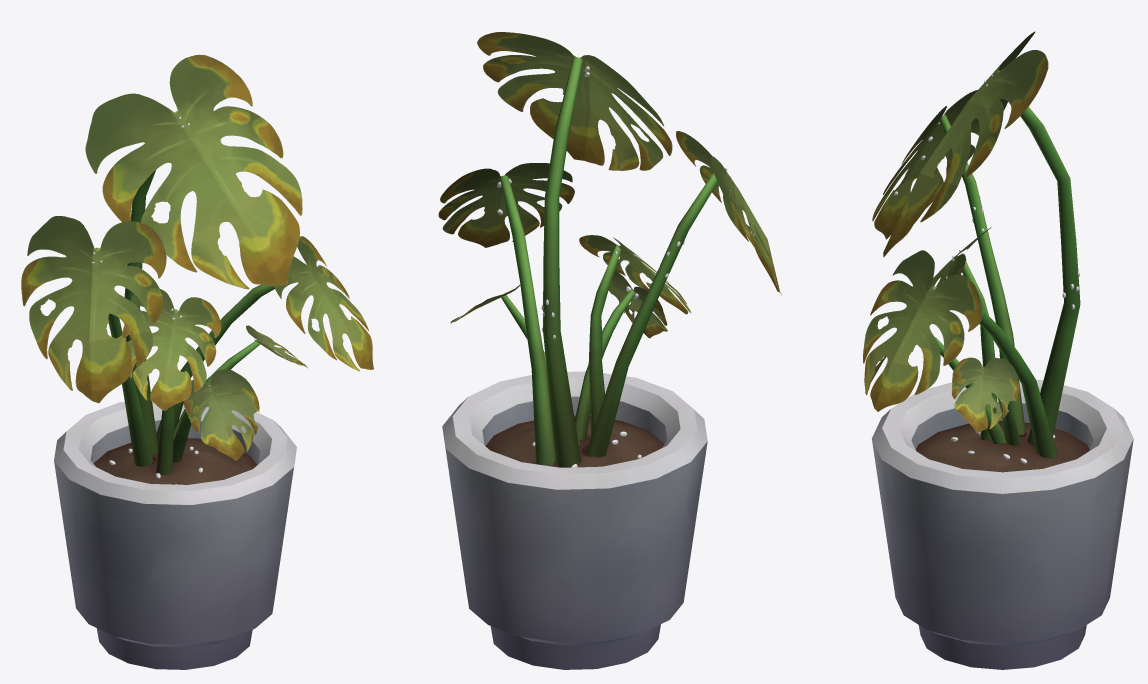
Rendered from MDL_MonsteraPestsCheck.fbx.
3 renders of one model, left to right at view 1: azimuth 30°, elevation 25°; view 2: azimuth 150°, elevation 25°; view 3: azimuth 270°, elevation 25°, orthographic. The views are drawn at different scales.
Visible parts, largest first — view 1: MDL_MonsteraPestCheck; view 2: MDL_MonsteraPestCheck; view 3: MDL_MonsteraPestCheck.
Part boxes in pixels (left/top/right/bottom): MDL_MonsteraPestCheck: left=21, top=54, right=373, bottom=669; MDL_MonsteraPestCheck: left=438, top=32, right=781, bottom=669; MDL_MonsteraPestCheck: left=863, top=31, right=1133, bottom=669.
Size of the model in its own units: 110 by 167 by 73.66.
